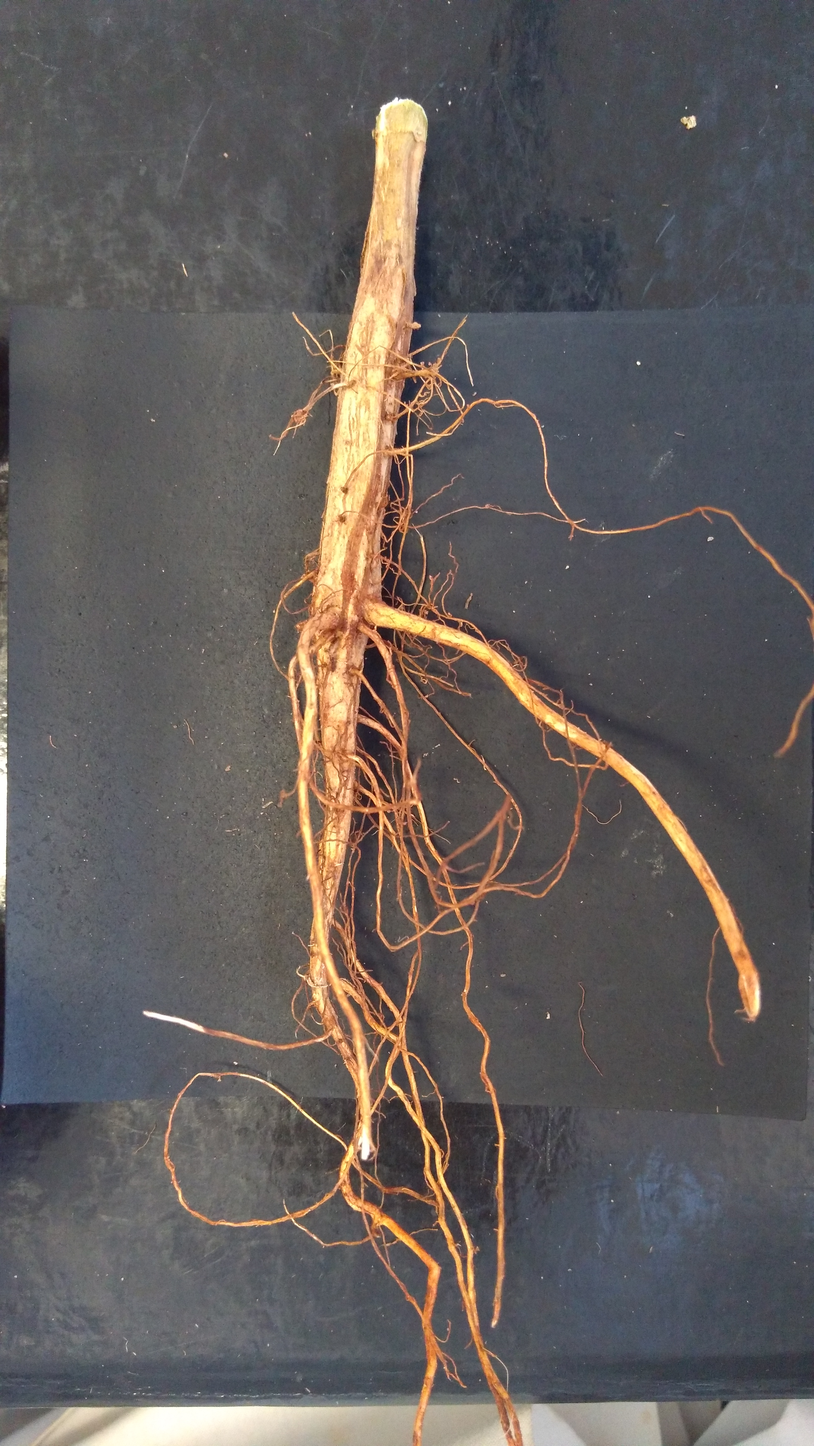nodule: (291, 408, 308, 424), (680, 115, 698, 130), (300, 570, 318, 584), (294, 619, 309, 632), (331, 360, 342, 375), (304, 554, 315, 566), (403, 508, 412, 519), (411, 322, 422, 330), (421, 609, 429, 615), (429, 575, 434, 581), (500, 973, 506, 978), (458, 622, 463, 627), (386, 809, 391, 814), (419, 361, 425, 365), (485, 504, 490, 508), (428, 362, 432, 366), (415, 510, 418, 514)
